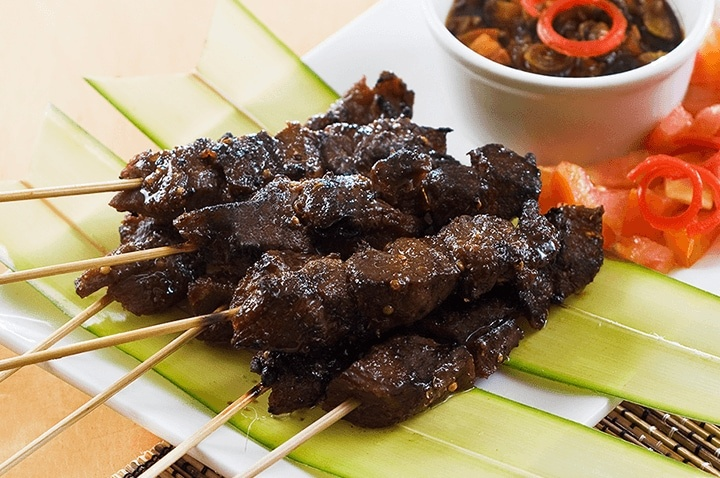sate: (0, 119, 603, 476)
